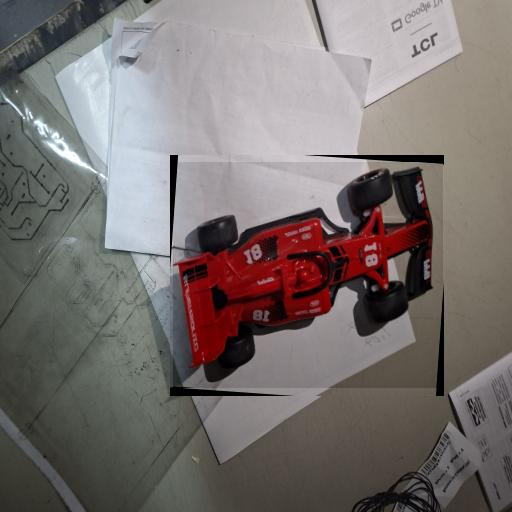carro: (173, 163, 442, 388)
